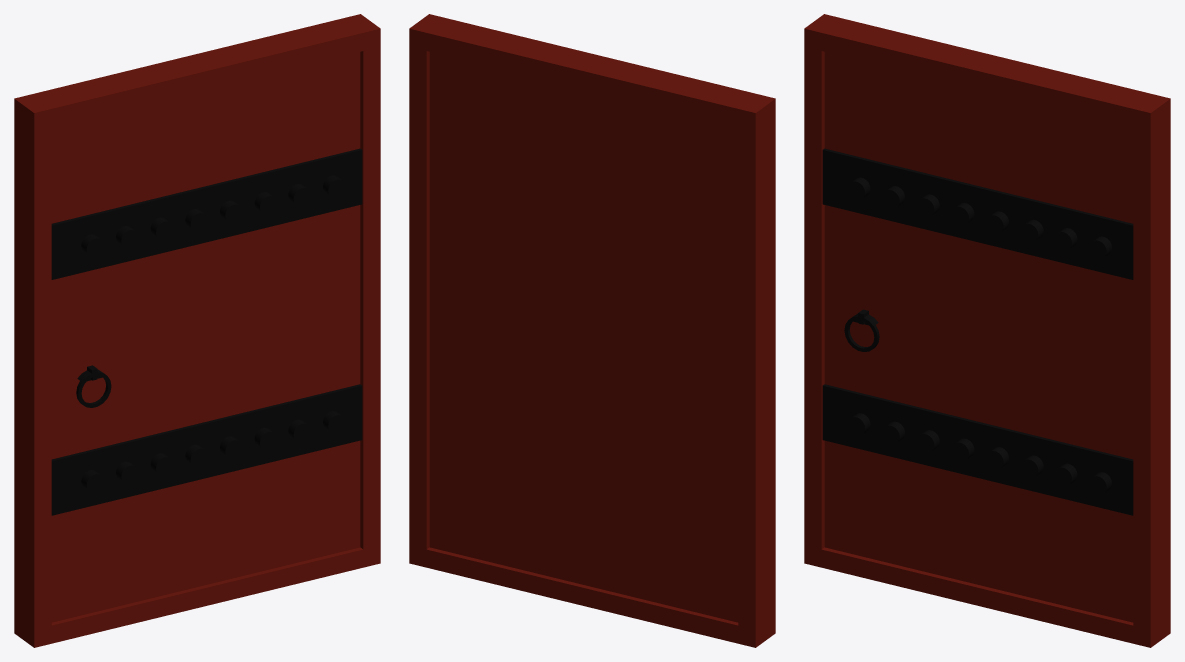
Rendered from ShopDoor001.FBX.
The picture shows the model from 3 angles, left to right: view 1: azimuth 30°, elevation 25°; view 2: azimuth 150°, elevation 25°; view 3: azimuth 330°, elevation 25°; orthographic projection.
Visible parts, largest first — view 1: Door, DoorHandle003; view 2: Door; view 3: Door, DoorHandle003.
Part boxes in pixels (bbox=[...]): Door: bbox=[14, 14, 380, 647]; DoorHandle003: bbox=[76, 365, 111, 407]; Door: bbox=[409, 14, 775, 647]; Door: bbox=[804, 14, 1170, 647]; DoorHandle003: bbox=[844, 309, 879, 351].
Bounding box in the file's own units: 20 × 29.5 × 2.44.
